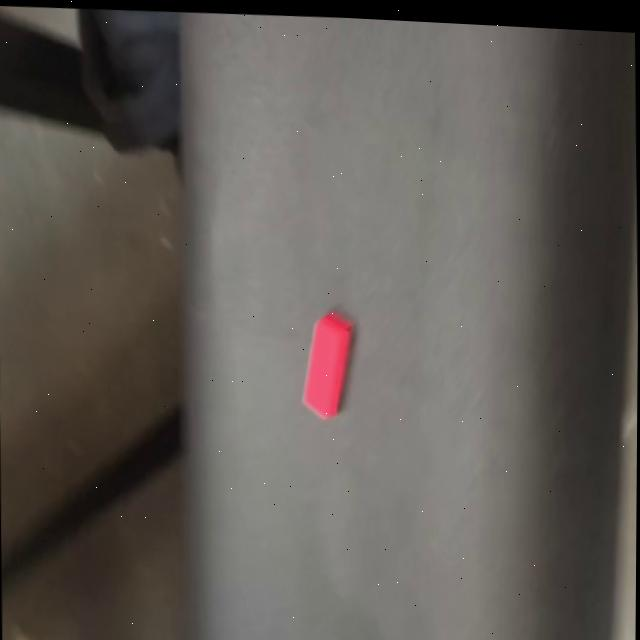red block: (298, 309, 353, 421)
